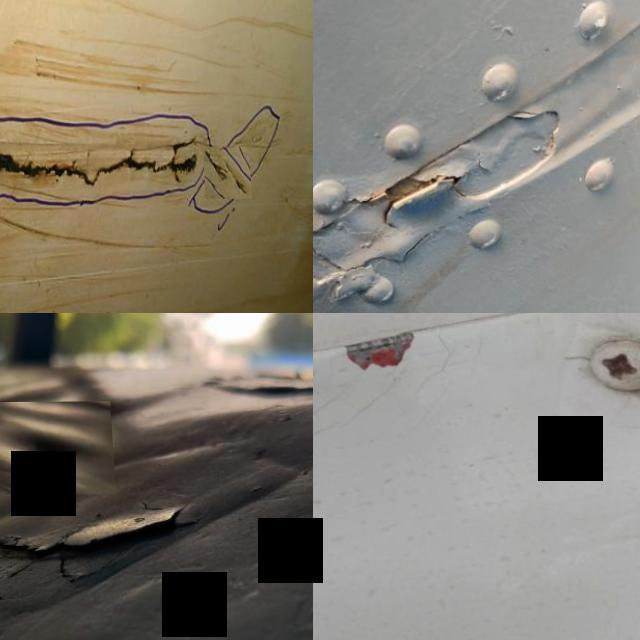Crack: (0, 498, 208, 601), (313, 313, 468, 426), (324, 162, 476, 230), (549, 313, 640, 425), (0, 140, 194, 190), (199, 148, 246, 199)
Dent: (0, 401, 113, 495)
